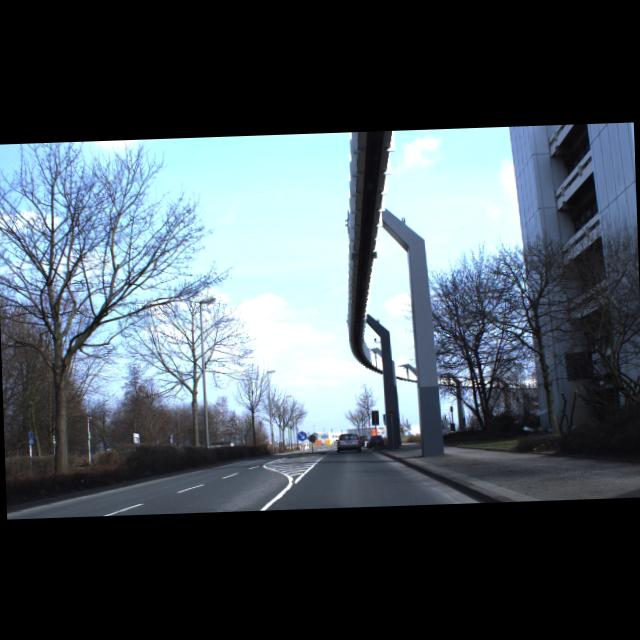mandatory: (296, 430, 306, 439)
